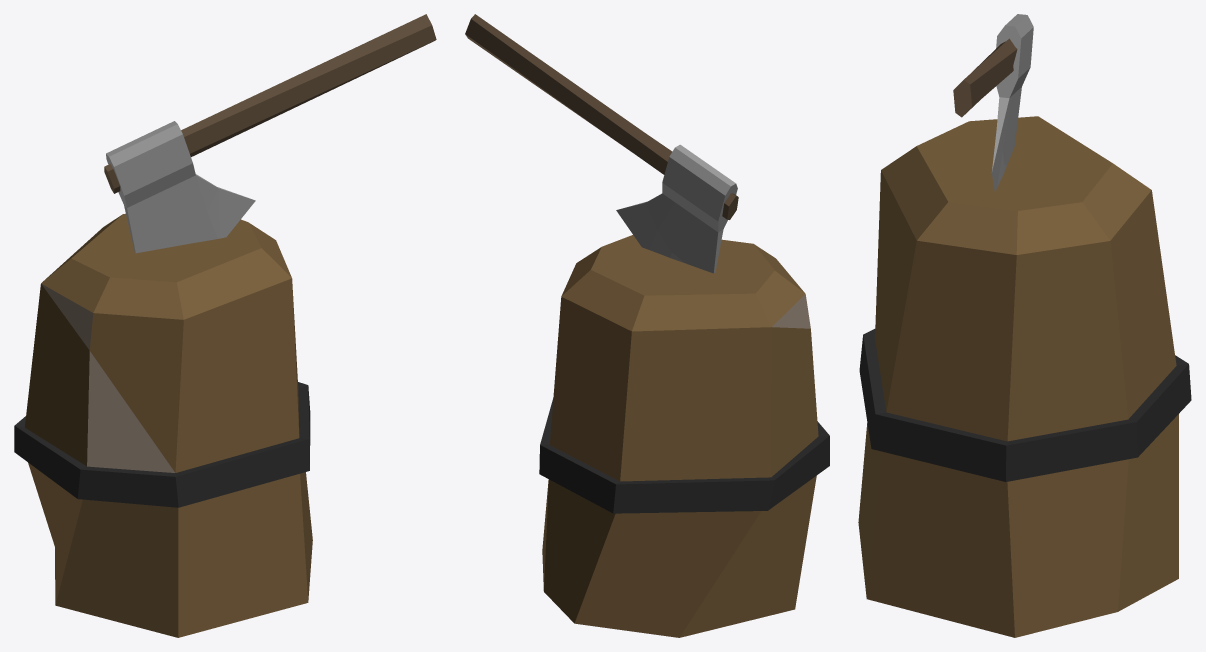
Rendered from EA03_Prop_Tool_Stump_02a.glb.
3 renders of one model, left to right at view 1: azimuth 30°, elevation 25°; view 2: azimuth 150°, elevation 25°; view 3: azimuth 270°, elevation 25°, orthographic. The views are drawn at different scales.
Parts seen in each view (by area): view 1: EA03_Prop_Tool_Stump_02a; view 2: EA03_Prop_Tool_Stump_02a; view 3: EA03_Prop_Tool_Stump_02a.
Part boxes in pixels (bbox=[...]): EA03_Prop_Tool_Stump_02a: bbox=[14, 14, 436, 637]; EA03_Prop_Tool_Stump_02a: bbox=[465, 14, 829, 637]; EA03_Prop_Tool_Stump_02a: bbox=[858, 14, 1191, 637].
Bounding box in the file's own units: 0.9129 × 1.23 × 0.6057.
Materials: 1 (1 with a texture image).
